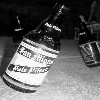beer: (2, 1, 72, 97)
